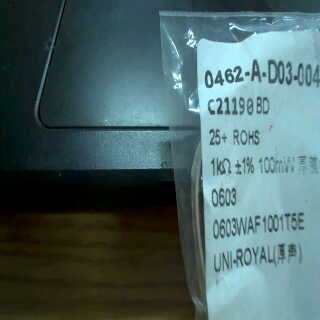1kR: (210, 154, 237, 176)
